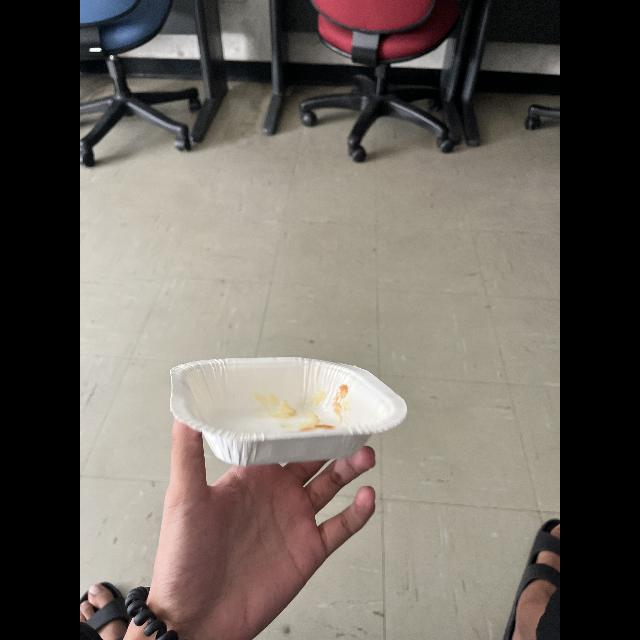cardboard_bowl: (163, 350, 413, 472)
